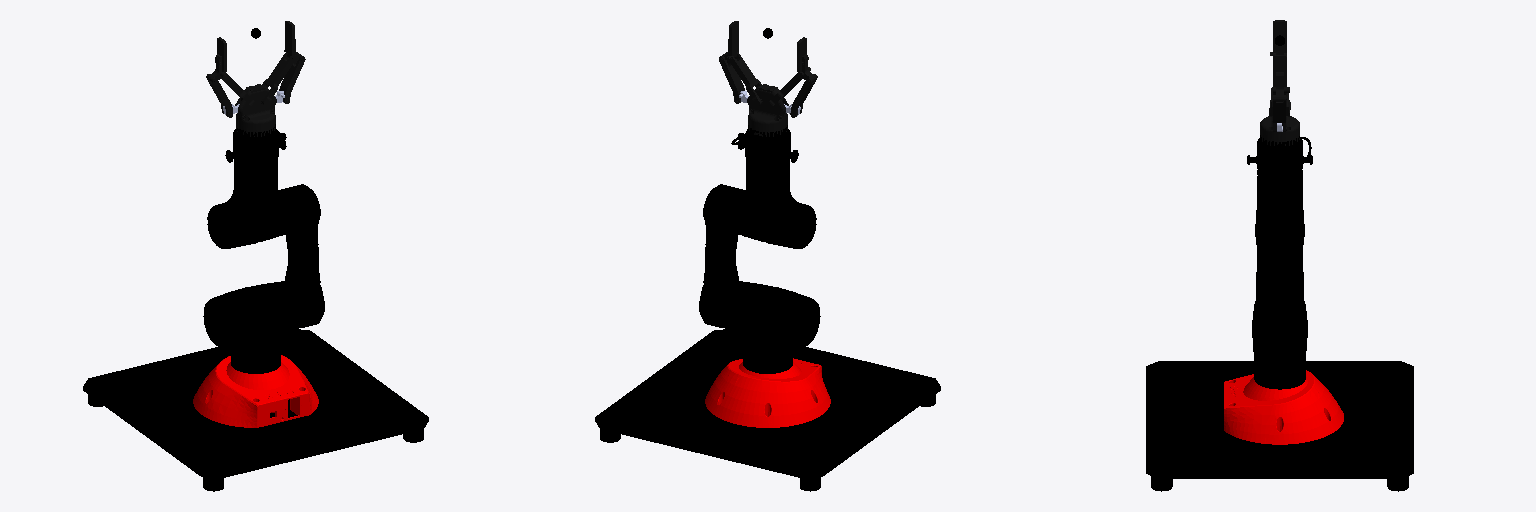
--- Render facts (derived) ---
3 views of the same robot in one strip: view 1: azimuth 30°, elevation 25°; view 2: azimuth 150°, elevation 25°; view 3: azimuth 270°, elevation 25° (orthographic).
Robot: mara_3-DOF — 22 links, 21 joints (9 revolute, 12 fixed); root link world; default pose: all joints at 0.
Visible links, largest first — view 1: base_link, base_robot, motor1_link, motor3_link, motor2_link, motor1_cover, motor3_cover, robotiq_arg2f_base_link, robotiq_adapter_link, motor6_link, left_inner_knuckle; view 2: base_link, base_robot, motor1_link, motor3_link, motor2_link, motor1_cover, motor3_cover, robotiq_arg2f_base_link, robotiq_adapter_link, motor6_link, left_inner_knuckle; view 3: base_link, motor2_link, base_robot, motor3_link, motor6_link, robotiq_adapter_link, motor1_link, robotiq_arg2f_base_link, left_inner_finger.
Boxes of the visible links, box(x1,y1,x2,y2) form: base_link: box(83, 329, 428, 491); base_robot: box(193, 355, 318, 427); motor1_link: box(231, 280, 303, 373); motor3_link: box(225, 162, 298, 241); motor2_link: box(285, 184, 324, 327); motor1_cover: box(203, 279, 308, 347); motor3_cover: box(207, 159, 303, 248); robotiq_arg2f_base_link: box(235, 84, 276, 136); robotiq_adapter_link: box(225, 129, 286, 168); motor6_link: box(233, 124, 286, 168); left_inner_knuckle: box(262, 50, 296, 105); base_link: box(595, 329, 940, 491); base_robot: box(705, 358, 830, 427); motor1_link: box(720, 280, 792, 373); motor3_link: box(725, 162, 798, 241); motor2_link: box(699, 184, 738, 327); motor1_cover: box(715, 279, 820, 347); motor3_cover: box(720, 159, 816, 248); robotiq_arg2f_base_link: box(747, 84, 788, 136); robotiq_adapter_link: box(738, 129, 798, 168); motor6_link: box(731, 125, 790, 168); left_inner_knuckle: box(725, 52, 761, 105); base_link: box(1146, 361, 1413, 491); motor2_link: box(1254, 228, 1305, 377); base_robot: box(1224, 370, 1343, 444); motor3_link: box(1255, 173, 1304, 244); motor6_link: box(1247, 135, 1312, 178); robotiq_adapter_link: box(1257, 138, 1302, 179); motor1_link: box(1252, 312, 1307, 389); robotiq_arg2f_base_link: box(1260, 116, 1299, 145); left_inner_finger: box(1273, 55, 1286, 96).
Size in the robot's own frame: 0.5 by 0.5 by 0.8242 metres.
18 mesh visuals loaded from 19 distinct referenced files (18 Collada DAE); not drawn: 5 (reference not matched to a file when rendering).

robot.urdf — mara_3-DOF:
<?xml version="1.0" ?>
<!-- =================================================================================== -->
<!-- |    This document was autogenerated by xacro from [local-path]/ros2_mara_ws/src/mara/mara_description/urdf/mara_robot_gripper_140.urdf.xacro | -->
<!-- |    EDITING THIS FILE BY HAND IS NOT RECOMMENDED                                 | -->
<!-- =================================================================================== -->
<robot name="mara_3-DOF" xmlns:xacro="http://ros.org/wiki/xacro">
  <!--
  Author: Alejandro  Hernandez
-->
  <!-- <xacro:include filename="$(find mara_description)/urdf/camera_top.urdf.xacro" /> -->
  <link name="base_link">
    <inertial>
      <origin rpy="0 0 0" xyz="8.625E-08 -4.6583E-06 0.03145"/>
      <mass value="7.033"/>
      <inertia ixx="0.1478344" ixy="-0.00001" ixz="0.0" iyy="0.14782335" iyz="0.0" izz="0.29471799"/>
    </inertial>
    <visual>
      <origin rpy="0 0 0" xyz="0 0 0"/>
      <geometry>
        <mesh filename="package://mara_description/meshes/Base_plancha.dae" scale="0.001 0.001 0.001"/>
      </geometry>
      <material name="Gazebo/Grey">
        <color rgba="0. 0. 0. 1"/>
      </material>
    </visual>
    <collision>
      <origin rpy="0 0 0" xyz="0 0 0"/>
      <geometry>
        <mesh filename="package://mara_description/meshes/Base_plancha.dae" scale="0.001 0.001 0.001"/>
      </geometry>
    </collision>
  </link>
  <gazebo reference="base_link">
    <material>Gazebo/Grey</material>
    <selfCollide>True</selfCollide>
  </gazebo>
  <link name="base_robot">
    <inertial>
      <origin rpy="0 0 0" xyz="8.625E-08 -4.6583E-06 0.03145"/>
      <mass value="7.033"/>
      <inertia ixx="0.1478344" ixy="0.00001" ixz="0.0" iyy="0.14782335" iyz="0.0" izz="0.29471799"/>
    </inertial>
    <visual>
      <origin rpy="0 0 0" xyz="0 0 0"/>
      <geometry>
        <mesh filename="package://mara_description/meshes/Base.dae" scale="0.001 0.001 0.001"/>
      </geometry>
      <material name="Gazebo/Black">
        <color rgba="1. 0. 0. 1.0"/>
      </material>
    </visual>
    <collision>
      <origin rpy="0 0 0" xyz="0 0 0"/>
      <geometry>
        <mesh filename="package://mara_description/meshes/Base.dae" scale="0.001 0.001 0.001"/>
      </geometry>
    </collision>
  </link>
  <gazebo reference="base_robot">
    <material>Gazebo/Black</material>
    <selfCollide>True</selfCollide>
  </gazebo>
  <link name="motor1_link">
    <inertial>
      <origin rpy="0 0 0" xyz="0.02066 0 0.12051"/>
      <mass value="5.6"/>
      <inertia ixx="0.0200769278" ixy="-7.72273E-006" ixz="0.0050158708" iyy="0.0257088151" iyz="5.49229E-006" izz="0.0120821377"/>
    </inertial>
    <visual>
      <origin rpy="0 0 0" xyz="0 0 0"/>
      <geometry>
        <mesh filename="package://mara_description/meshes/MARA_T49.dae" scale="0.001 0.001 0.001"/>
      </geometry>
      <material name="Gazebo/White">
        <color rgba="0. 0. 0. 1"/>
      </material>
    </visual>
    <collision>
      <origin rpy="0 0 0" xyz="0 0 0"/>
      <geometry>
        <mesh filename="package://mara_description/meshes/MARA_T49.dae" scale="0.001 0.001 0.001"/>
      </geometry>
    </collision>
  </link>
  <gazebo reference="motor1_link">
    <material>Gazebo/White</material>
    <selfCollide>True</selfCollide>
  </gazebo>
  <link name="motor1_cover">
    <inertial>
      <origin rpy="0 0 0" xyz="8.625E-08 -4.6583E-06 0.03145"/>
      <mass value="0.0"/>
      <inertia ixx="0.0" ixy="0.0" ixz="0.0" iyy="0.0" iyz="0.0" izz="0.0"/>
    </inertial>
    <visual>
      <origin rpy="0 0 0" xyz="0 0 0"/>
      <geometry>
        <mesh filename="package://mara_description/meshes/MARA_T49_Black.dae" scale="0.001 0.001 0.001"/>
      </geometry>
      <material name="Gazebo/Black">
        <color rgba="0. 0. 0. 1"/>
      </material>
    </visual>
    <collision>
      <origin rpy="0 0 0" xyz="0 0 0"/>
      <geometry>
        <mesh filename="package://mara_description/meshes/MARA_T49_Black.dae" scale="0.001 0.001 0.001"/>
      </geometry>
    </collision>
  </link>
  <gazebo reference="motor1_cover">
    <material>Gazebo/Black</material>
    <selfCollide>True</selfCollide>
  </gazebo>
  <link name="motor2_link">
    <inertial>
      <origin rpy="0 0 0" xyz="-0.01665 0.0 0.09639"/>
      <mass value="1.236"/>
      <inertia ixx="0.0079614839" ixy="0.000000037" ixz="-0.0003203013" iyy="0.007135338" iyz="-0.000001062" izz="0.001111114"/>
    </inertial>
    <visual>
      <origin rpy="0 0 0" xyz="0 0 0"/>
      <geometry>
        <mesh filename="package://mara_description/meshes/MARA_Link1.dae" scale="0.001 0.001 0.001"/>
      </geometry>
      <material name="Gazebo/Black">
        <color rgba="0. 0. 0. 1"/>
      </material>
    </visual>
    <collision>
      <origin rpy="0 0 0" xyz="0 0 0"/>
      <geometry>
        <mesh filename="package://mara_description/meshes/MARA_Link1.dae" scale="0.001 0.001 0.001"/>
      </geometry>
    </collision>
  </link>
  <gazebo reference="motor2_link">
    <material>Gazebo/Black</material>
    <selfCollide>True</selfCollide>
  </gazebo>
  <link name="motor3_link">
    <inertial>
      <origin rpy="0 0 0" xyz="-0.08963 0.0 0.0403"/>
      <mass value="3.95"/>
      <inertia ixx="0.0115136615" ixy="-1.231046E-005" ixz="-0.003148516" iyy="0.0149841676" iyz="-8.81378E-006" izz="0.0070387807"/>
    </inertial>
    <visual>
      <origin rpy="0 0 0" xyz="0 0 0"/>
      <geometry>
        <mesh filename="package://mara_description/meshes/MARA_T30.dae" scale="0.001 0.001 0.001"/>
      </geometry>
      <material name="Gazebo/White">
        <color rgba="0. 0. 0. 1"/>
      </material>
    </visual>
    <collision>
      <origin rpy="0 0 0" xyz="0 0 0"/>
      <geometry>
        <mesh filename="package://mara_description/meshes/MARA_T30.dae" scale="0.001 0.001 0.001"/>
      </geometry>
    </collision>
  </link>
  <gazebo reference="motor3_link">
    <material>Gazebo/White</material>
    <selfCollide>True</selfCollide>
  </gazebo>
  <link name="motor3_cover">
    <inertial>
      <origin rpy="0 0 0" xyz="8.625E-08 -4.6583E-06 0.03145"/>
      <mass value="0.0"/>
      <inertia ixx="0.0" ixy="0.0" ixz="0.0" iyy="0.0" iyz="0.0" izz="0.0"/>
    </inertial>
    <visual>
      <origin rpy="0 0 0" xyz="0 0 0"/>
      <geometry>
        <mesh filename="package://mara_description/meshes/MARA_T30_Black.dae" scale="0.001 0.001 0.001"/>
      </geometry>
      <material name="Gazebo/Black">
        <color rgba="0. 0. 0. 1"/>
      </material>
    </visual>
    <collision>
      <origin rpy="0 0 0" xyz="0 0 0"/>
      <geometry>
        <mesh filename="package://mara_description/meshes/MARA_T30_Black.dae" scale="0.001 0.001 0.001"/>
      </geometry>
    </collision>
  </link>
  <gazebo reference="motor3_cover">
    <material>Gazebo/Black</material>
    <selfCollide>True</selfCollide>
  </gazebo>

<!--
  <link name="motor4_link">
    <inertial>
      <origin rpy="0 0 0" xyz="0.06357 0.0 0.05698"/>
      <mass value="1.258"/>
      <inertia ixx="0.005919676" ixy="0.000000923" ixz="0.0022280208" iyy="0.0068807393" iyz="6.1373E-007" izz="0.00257485"/>
    </inertial>
    <visual>
      <origin rpy="0 0 0" xyz="0 0 0"/>
      <geometry>
        <mesh filename="package://mara_description/meshes/MARA_Link2.dae" scale="0.001 0.001 0.001"/>
      </geometry>
      <material name="Gazebo/Black">
        <color rgba="0. 0. 0. 1"/>
      </material>
    </visual>
    <collision>
      <origin rpy="0 0 0" xyz="0 0 0"/>
      <geometry>
        <mesh filename="package://mara_description/meshes/MARA_Link2.dae" scale="0.001 0.001 0.001"/>
      </geometry>
    </collision>
  </link>
  <gazebo reference="motor4_link">
    <material>Gazebo/Black</material>
    <selfCollide>True</selfCollide>
  </gazebo>

  <link name="motor5_link">
    <inertial>
      <origin rpy="0 0 0" xyz="-0.09105 0.0 0.03676"/>
      <mass value="2.85"/>
      <inertia ixx="0.0072829492" ixy="3.77994E-006" ixz="-0.0015682105" iyy="0.0098263499" iyz="2.52745E-006" izz="0.0045615321"/>
    </inertial>
    <visual>
      <origin rpy="0 0 0" xyz="0 0 0"/>
      <geometry>
        <mesh filename="package://mara_description/meshes/MARA_T5.4.dae" scale="0.001 0.001 0.001"/>
      </geometry>
      <material name="Gazebo/White">
        <color rgba="0. 0. 0. 1"/>
      </material>
    </visual>
    <collision>
      <origin rpy="0 0 0" xyz="0 0 0"/>
      <geometry>
        <mesh filename="package://mara_description/meshes/MARA_T5.4.dae" scale="0.001 0.001 0.001"/>
      </geometry>
    </collision>
  </link>
  <gazebo reference="motor5_link">
    <material>Gazebo/White</material>
    <selfCollide>True</selfCollide>
  </gazebo>
  <link name="motor5_cover">
    <inertial>
      <origin rpy="0 0 0" xyz="8.625E-08 -4.6583E-06 0.03145"/>
      <mass value="0.0"/>
      <inertia ixx="0.0" ixy="0.0" ixz="0.0" iyy="0.0" iyz="0.0" izz="0.0"/>
    </inertial>
    <visual>
      <origin rpy="0 0 0" xyz="0 0 0"/>
      <geometry>
        <mesh filename="package://mara_description/meshes/MARA_T5.4_black.dae" scale="0.001 0.001 0.001"/>
      </geometry>
      <material name="Gazebo/Black">
        <color rgba="0. 0. 0. 1"/>
      </material>
    </visual>
    <collision>
      <origin rpy="0 0 0" xyz="0 0 0"/>
      <geometry>
        <mesh filename="package://mara_description/meshes/MARA_T5.4_black.dae" scale="0.001 0.001 0.001"/>
      </geometry>
    </collision>
  </link>
  <gazebo reference="motor5_cover">
    <material>Gazebo/Black</material>
    <selfCollide>True</selfCollide>
  </gazebo>
-->

  <link name="motor6_link">
    <inertial>
      <origin rpy="0 0 0" xyz="0.0 0.0 -0.0173"/>
      <mass value="0.14"/>
      <inertia ixx="9.22e-05" ixy="6.35e-7" ixz="2.00e-11" iyy="9.73e-5" iyz="2.36e-9" izz="1.77e-4"/>
    </inertial>
    <visual>
      <origin rpy="0 0 0" xyz="0 0 0"/>
      <geometry>
        <mesh filename="package://mara_description/meshes/MARA_GripperAdapter.dae" scale="0.001 0.001 0.001"/>
      </geometry>
      <material name="Gazebo/Black">
        <color rgba="0. 0. 0. 1"/>
      </material>
    </visual>
    <collision>
      <origin rpy="0 0 0" xyz="0 0 0"/>
      <geometry>
        <mesh filename="package://mara_description/meshes/MARA_GripperAdapter.dae" scale="0.001 0.001 0.001"/>
      </geometry>
    </collision>
  </link>
  <gazebo reference="motor6_link">
    <material>Gazebo/Black</material>
    <selfCollide>True</selfCollide>
  </gazebo>

  <link name="ee_link">
    <visual>
      <geometry>
        <sphere radius="0.01"/>
      </geometry>
      <material name="Gazebo/Grey">
        <color rgba="0. 0. 0. 1"/>
      </material>
    </visual>
  </link>
  <gazebo reference="ee_link">
    <material>Gazebo/Blue</material>
    <selfCollide>False</selfCollide>
  </gazebo>
  <joint name="joint_bases" type="fixed">
    <origin rpy="0 0 0" xyz="0 0 0.04"/>
    <parent link="base_link"/>
    <child link="base_robot"/>
  </joint>
  <joint name="motor1" type="revolute">
    <origin rpy="0 0 0" xyz="0 0 0.02125"/>
    <parent link="base_robot"/>
    <child link="motor1_link"/>
    <axis xyz="0 0 1"/>
    <limit effort="104.0" lower="-3.1416" upper="3.1416" velocity="1.57"/>
    <dynamics damping="0" friction="0"/>
  </joint>
  <joint name="motor1_cover_joint" type="fixed">
    <origin rpy="0 0 0" xyz="0 0 0.0"/>
    <parent link="motor1_link"/>
    <child link="motor1_cover"/>
  </joint>
  <joint name="motor2" type="revolute">
    <origin rpy="0 0 0" xyz="0.118 0 0.1637"/>
    <parent link="motor1_link"/>
    <child link="motor2_link"/>
    <axis xyz="1 0 0"/>
    <limit effort="104.0" lower="-2.35" upper="2.35" velocity="1.57"/>
    <dynamics damping="0" friction="0"/>
  </joint>
  <joint name="motor3" type="revolute">
    <origin rpy="0 0 0" xyz="-0.009 0 0.2"/>
    <parent link="motor2_link"/>
    <child link="motor3_link"/>
    <axis xyz="-1 0 0"/>
    <limit effort="69" lower="-2.61" upper="2.61" velocity="1.57"/>
    <dynamics damping="0" friction="0"/>
  </joint>
  <joint name="motor3_cover_joint" type="fixed">
    <origin rpy="0 0 0" xyz="0 0 0.0"/>
    <parent link="motor3_link"/>
    <child link="motor3_cover"/>
  </joint>

<!--
  <joint name="motor4" type="revolute">
    <origin rpy="0 0 0" xyz="-0.109255 0 0.149255"/>
    <parent link="motor3_link"/>
    <child link="motor4_link"/>
    <axis xyz="0 0 1"/>
    <limit effort="69" lower="-3.14" upper="3.14" velocity="1.57"/>
    <dynamics damping="0" friction="0"/>
  </joint>
-->

  <joint name="motor6" type="fixed">
    <origin rpy="0 0 1.57" xyz="-0.109255 0 0.149255"/>
    <parent link="motor3_link"/>
    <child link="motor6_link"/>
    <axis xyz="0 0 1"/>
    <limit effort="69" lower="-3.14" upper="3.14" velocity="1.57"/>
    <dynamics damping="0" friction="0"/>
  </joint>

<!--
  <joint name="motor5" type="revolute">
    <origin rpy="0 0 0" xyz="0.1054570 0 0.16074"/>
    <parent link="motor4_link"/>
    <child link="motor5_link"/>
    <axis xyz="-1 0 0"/>
    <limit effort="34" lower="-2.56" upper="2.56" velocity="1.57"/>
    <dynamics damping="0" friction="0"/>
  </joint>
  <joint name="motor5_cover_joint" type="fixed">
    <origin rpy="0 0 0" xyz="0 0 0.0"/>
    <parent link="motor5_link"/>
    <child link="motor5_cover"/>
  </joint>

  <joint name="motor6" type="revolute">
    <origin rpy="0 0 0" xyz="-0.10625569 0 0.14675569"/>
    <parent link="motor3_link"/>
    <child link="motor6_link"/>
    <axis xyz="0 0 1"/>
    <limit effort="34" lower="-3.14" upper="3.14" velocity="1.57"/>
    <dynamics damping="0" friction="0"/>
  </joint>
-->
  <joint name="ee_link" type="fixed">
    <origin rpy="0 -1.57 0" xyz="0 0.0 0.24"/>
    <!-- 0.24 -->
    <parent link="motor6_link"/>
    <child link="ee_link"/>
  </joint>
  <link name="tool0"/>
  <joint name="motor6_link-tool0_fixed_joint" type="fixed">
    <origin rpy="0 -1.57 0" xyz="0 0.0 0.24"/>
    <parent link="motor6_link"/>
    <child link="tool0"/>
  </joint>
  <transmission name="shoulder_pan_trans">
    <type>transmission_interface/SimpleTransmission</type>
    <joint name="motor1">
      <hardwareInterface>hardware_interface/PositionJointInterface</hardwareInterface>
    </joint>
    <actuator name="shoulder_pan_motor">
      <mechanicalReduction>1</mechanicalReduction>
    </actuator>
  </transmission>
  <transmission name="shoulder_lift_trans">
    <type>transmission_interface/SimpleTransmission</type>
    <joint name="motor2">
      <hardwareInterface>hardware_interface/PositionJointInterface</hardwareInterface>
    </joint>
    <actuator name="shoulder_lift_motor">
      <mechanicalReduction>1</mechanicalReduction>
    </actuator>
  </transmission>
  <transmission name="elbow_trans">
    <type>transmission_interface/SimpleTransmission</type>
    <joint name="motor3">
      <hardwareInterface>hardware_interface/PositionJointInterface</hardwareInterface>
    </joint>
    <actuator name="elbow_motor">
      <mechanicalReduction>1</mechanicalReduction>
    </actuator>
  </transmission>
<!--
  <transmission name="wrist_1_trans">
    <type>transmission_interface/SimpleTransmission</type>
    <joint name="motor4">
      <hardwareInterface>hardware_interface/PositionJointInterface</hardwareInterface>
    </joint>
    <actuator name="wrist_1_motor">
      <mechanicalReduction>1</mechanicalReduction>
    </actuator>
  </transmission>
  <transmission name="wrist_2_trans">
    <type>transmission_interface/SimpleTransmission</type>
    <joint name="motor5">
      <hardwareInterface>hardware_interface/PositionJointInterface</hardwareInterface>
    </joint>
    <actuator name="wrist_2_motor">
      <mechanicalReduction>1</mechanicalReduction>
    </actuator>
  </transmission>
-->
<!--
  <transmission name="wrist_3_trans">
    <type>transmission_interface/SimpleTransmission</type>
    <joint name="motor6">
      <hardwareInterface>hardware_interface/PositionJointInterface</hardwareInterface>
    </joint>
    <actuator name="wrist_3_motor">
      <mechanicalReduction>1</mechanicalReduction>
    </actuator>
  </transmission>
-->
  <gazebo>
    <!--
    <plugin filename="libgazebo_ros_joint_state_publisher.so" name="mara_joint_state">
      <ros>
        <argument>~/out:=joint_states</argument>
      </ros>
      <update_rate>25</update_rate>
      <joint_name>motor1</joint_name>
      <joint_name>motor2</joint_name>
      <joint_name>motor3</joint_name>

      <joint_name>motor4</joint_name>
      <joint_name>motor5</joint_name>
      <joint_name>motor6</joint_name>

      <joint_name>joint_finger</joint_name>
    </plugin>
  -->
    <plugin filename="libmara_gazebo_joint_training_plugin_3dof.so" name="hrim_actuation_servomotor_00000000000">
      <ros/>
      <axis1>motor2</axis1>
      <axis2>motor1</axis2>
      <axis3>motor3</axis3>
    </plugin>
<!--
    <plugin filename="libmara_gazebo_joint_plugin.so" name="hrim_actuation_servomotor_000000000002">
      <ros/>
      <axis1>motor3</axis1>
      <axis2>motor4</axis2>
      <type>series17</type>
    </plugin>

    <plugin filename="libmara_gazebo_joint_plugin.so" name="hrim_actuation_servomotor_000000000003">
      <ros/>
      <axis1>motor5</axis1>
      <axis2>motor6</axis2>
      <type>series20</type>
    </plugin>
-->
<!--
    <plugin filename="libmara_gazebo_joint_plugin.so" name="hrim_actuation_servomotor_000000000002">
      <ros/>
      <axis1>motor3</axis1>
      <axis2>motor6</axis2>
      <type>series17</type>
    </plugin>
-->


  </gazebo>
  <link name="robotiq_adapter_link">
    <inertial>
      <origin rpy="0 0 0" xyz="8.625E-08 -4.6583E-06 0.03145"/>
      <mass value="0.22652"/>
      <inertia ixx="0.00020005" ixy="0" ixz="0" iyy="0.00017832" iyz="0" izz="0.00013478"/>
    </inertial>
    <visual>
      <origin rpy="0 0 1.57" xyz="0 0 0"/>
      <geometry>
        <mesh filename="package://robotiq_140_gripper_description/meshes/hros_robotiq_adapter.dae" scale="0.001 0.001 0.001"/>
      </geometry>
      <material name="Gazebo/Black">
        <color rgba="0.0 0.0 0.0 1"/>
      </material>
    </visual>
    <collision>
      <origin rpy="0 0 1.57" xyz="0 0 0"/>
      <geometry>
        <mesh filename="package://robotiq_140_gripper_description/meshes/hros_robotiq_adapter.dae" scale="0.001 0.001 0.001"/>
      </geometry>
    </collision>
  </link>
  <gazebo reference="robotiq_adapter_link">
    <material>Gazebo/Black</material>
    <selfCollide>False</selfCollide>
  </gazebo>
  <joint name="base_adapter_to_base_robotiq_joint" type="fixed">
    <origin rpy="0 0 0" xyz=" 0 0 0.03653"/>
    <parent link="robotiq_adapter_link"/>
    <child link="robotiq_arg2f_base_link"/>
  </joint>
  <link name="robotiq_arg2f_base_link">
    <inertial>
      <origin rpy="0 0 0" xyz="8.625E-08 -4.6583E-06 0.03145"/>
      <mass value="0.22652"/>
      <inertia ixx="0.00020005" ixy="0" ixz="0" iyy="0.00017832" iyz="0" izz="0.00013478"/>
    </inertial>
    <visual>
      <origin rpy="0 0 1.57" xyz="0 0 0"/>
      <geometry>
        <mesh filename="package://robotiq_140_gripper_description/meshes/GRIPPER_base_axis.dae" scale="0.001 0.001 0.001"/>
      </geometry>
      <material name="Gazebo/Black">
        <color rgba="0.1 0.1 0.1 1"/>
      </material>
    </visual>
    <collision>
      <origin rpy="0 0 1.57" xyz="0 0 0"/>
      <geometry>
        <mesh filename="package://robotiq_140_gripper_description/meshes/GRIPPER_base_axis.dae" scale="0.001 0.001 0.001"/>
      </geometry>
    </collision>
  </link>
  <gazebo reference="robotiq_arg2f_base_link">
    <material>Gazebo/Black</material>
    <selfCollide>False</selfCollide>
  </gazebo>
  <link name="left_outer_knuckle">
    <inertial>
      <origin rpy="0 0 0" xyz="0 0 0"/>
      <mass value="0.00853198276973456"/>
      <inertia ixx="2.89328108496468E-06" ixy="-1.57935047237397E-19" ixz="-1.93980378593255E-19" iyy="1.86719750325683E-06" iyz="-1.21858577871576E-06" izz="1.21905238907251E-06"/>
    </inertial>
    <visual>
      <origin rpy="0 0 0" xyz="0 0 0"/>
      <geometry>
        <mesh filename="package://robotiq_140_gripper_description/meshes/robotiq_140_left_outer_knuckle.dae"/>
      </geometry>
      <material name="">
        <color rgba="0.792156862745098 0.819607843137255 0.933333333333333 1"/>
      </material>
    </visual>
    <collision>
      <origin rpy="0 0 0" xyz="0 0 0"/>
      <geometry>
        <mesh filename="package://robotiq_140_gripper_description/meshes/robotiq_140_left_outer_knuckle.dae"/>
      </geometry>
    </collision>
  </link>
  <gazebo reference="left_outer_knuckle">
    <material>Gazebo/Grey</material>
    <selfCollide>False</selfCollide>
  </gazebo>
  <link name="right_outer_knuckle">
    <inertial>
      <origin rpy="0 0 0" xyz="0 0 0"/>
      <mass value="0.00853198276973456"/>
      <inertia ixx="2.89328108496468E-06" ixy="-1.57935047237397E-19" ixz="-1.93980378593255E-19" iyy="1.86719750325683E-06" iyz="-1.21858577871576E-06" izz="1.21905238907251E-06"/>
    </inertial>
    <visual>
      <origin rpy="0 0 0" xyz="0 0 0"/>
      <geometry>
        <mesh filename="package://robotiq_140_gripper_description/meshes/robotiq_140_right_outer_knuckle.dae"/>
      </geometry>
      <material name="">
        <color rgba="0.792156862745098 0.819607843137255 0.933333333333333 1"/>
      </material>
    </visual>
    <collision>
      <origin rpy="0 0 0" xyz="0 0 0"/>
      <geometry>
        <mesh filename="package://robotiq_140_gripper_description/meshes/robotiq_140_right_outer_knuckle.dae"/>
      </geometry>
    </collision>
  </link>
  <gazebo reference="right_outer_knuckle">
    <material>Gazebo/Grey</material>
    <selfCollide>False</selfCollide>
  </gazebo>
  <link name="left_inner_knuckle">
    <inertial>
      <origin rpy="0 0 0" xyz="0.000123011831763771 0.0507850843201817 0.00103968640075166"/>
      <mass value="0.0271177346495152"/>
      <inertia ixx="2.61910379223783E-05" ixy="-2.43616858946494E-07" ixz="-6.37789906117123E-09" iyy="2.8270243746167E-06" iyz="-5.37200748039765E-07" izz="2.83695868220296E-05"/>
    </inertial>
    <visual>
      <origin rpy="0 0 0" xyz="0 0 0"/>
      <geometry>
        <mesh filename="package://robotiq_140_gripper_description/meshes/robotiq_140_left_inner_knuckle.dae"/>
      </geometry>
      <material name="Gazebo/Black">
        <color rgba="0.1 0.1 0.1 1"/>
      </material>
    </visual>
  </link>
  <gazebo reference="left_inner_knuckle">
    <material>Gazebo/Black</material>
    <selfCollide>False</selfCollide>
  </gazebo>
  <link name="right_inner_knuckle">
    <inertial>
      <origin rpy="0 0 0" xyz="0.000123011831763771 0.0507850843201817 0.00103968640075166"/>
      <mass value="0.0271177346495152"/>
      <inertia ixx="2.61910379223783E-05" ixy="-2.43616858946494E-07" ixz="-6.37789906117123E-09" iyy="2.8270243746167E-06" iyz="-5.37200748039765E-07" izz="2.83695868220296E-05"/>
    </inertial>
    <visual>
      <origin rpy="0 0 0" xyz="0 0 0"/>
      <geometry>
        <mesh filename="package://robotiq_140_gripper_description/meshes/robotiq_140_right_inner_knuckle.dae"/>
      </geometry>
      <material name="Gazebo/Black">
        <color rgba="0.1 0.1 0.1 1"/>
      </material>
    </visual>
  </link>
  <gazebo reference="right_inner_knuckle">
    <material>Gazebo/Black</material>
    <selfCollide>False</selfCollide>
  </gazebo>
  <link name="left_inner_finger">
    <inertial>
      <origin rpy="0 0 0" xyz="0.0 0.031506174 -0.017648840"/>
      <mass value="0.0104003125914103"/>
      <inertia ixx="2.71909453810972E-06" ixy="1.35402465472579E-21" ixz="-7.1817349065269E-22" iyy="7.69100314106116E-07" iyz="6.74715432769696E-07" izz="2.30315190420171E-06"/>
    </inertial>
    <visual>
      <origin rpy="0 0 0" xyz="0 0 0"/>
      <geometry>
        <mesh filename="package://robotiq_140_gripper_description/meshes/robotiq_140_left_inner_finger.dae" scale="0.001 0.001 0.001"/>
      </geometry>
      <material name="Gazebo/Black">
        <color rgba="0.1 0.1 0.1 1"/>
      </material>
    </visual>
    <collision>
      <origin rpy="0 0 0" xyz="0 0 0"/>
      <geometry>
        <mesh filename="package://robotiq_140_gripper_description/meshes/robotiq_140_left_inner_finger.dae" scale="0.001 0.001 0.001"/>
      </geometry>
    </collision>
  </link>
  <gazebo reference="left_inner_finger">
    <material>Gazebo/Black</material>
    <selfCollide>False</selfCollide>
  </gazebo>
  <link name="right_inner_finger">
    <inertial>
      <origin rpy="0 0 0" xyz="0.0 0.031506174 -0.017648840"/>
      <mass value="0.0104003125914103"/>
      <inertia ixx="2.71909453810972E-06" ixy="1.35402465472579E-21" ixz="-7.1817349065269E-22" iyy="7.69100314106116E-07" iyz="6.74715432769696E-07" izz="2.30315190420171E-06"/>
    </inertial>
    <visual>
      <origin rpy="0 0 0" xyz="0 0 0"/>
      <geometry>
        <mesh filename="package://robotiq_140_gripper_description/meshes/robotiq_140_right_inner_finger.dae" scale="0.001 0.001 0.001"/>
      </geometry>
      <material name="Gazebo/Black">
        <color rgba="0.1 0.1 0.1 1"/>
      </material>
    </visual>
    <collision>
      <origin rpy="0 0 0" xyz="0 0 0"/>
      <geometry>
        <mesh filename="package://robotiq_140_gripper_description/meshes/robotiq_140_right_inner_finger.dae" scale="0.001 0.001 0.001"/>
      </geometry>
    </collision>
  </link>
  <gazebo reference="right_inner_finger">
    <material>Gazebo/Black</material>
    <selfCollide>False</selfCollide>
  </gazebo>
  <link name="left_outer_finger">
    <inertial>
      <origin rpy="0 0 0" xyz="0.00030115855001899 0.0373907951953854 -0.0208027427000385"/>
      <mass value="0.022614240507152"/>
      <inertia ixx="1.52518312458174E-05" ixy="9.76583423954399E-10" ixz="-5.43838577022588E-10" iyy="6.17694243867776E-06" iyz="6.78636130740228E-06" izz="1.16494917907219E-05"/>
    </inertial>
    <visual>
      <origin rpy="0 0 0" xyz="0 0 0"/>
      <geometry>
        <mesh filename="package://robotiq_140_gripper_description/meshes/robotiq_140_left_outer_finger.dae"/>
      </geometry>
      <material name="Gazebo/Black">
        <color rgba="0.1 0.1 0.1 1"/>
      </material>
    </visual>
    <collision>
      <origin rpy="0 0 0" xyz="0 0 0"/>
      <geometry>
        <mesh filename="package://robotiq_140_gripper_description/meshes/robotiq_140_left_outer_finger.dae"/>
      </geometry>
    </collision>
  </link>
  <gazebo reference="left_outer_finger">
    <material>Gazebo/Black</material>
    <selfCollide>False</selfCollide>
  </gazebo>
  <link name="right_outer_finger">
    <inertial>
      <origin rpy="0 0 0" xyz="0.00030115855001899 0.0373907951953854 -0.0208027427000385"/>
      <mass value="0.022614240507152"/>
      <inertia ixx="1.52518312458174E-05" ixy="9.76583423954399E-10" ixz="-5.43838577022588E-10" iyy="6.17694243867776E-06" iyz="6.78636130740228E-06" izz="1.16494917907219E-05"/>
    </inertial>
    <visual>
      <origin rpy="0 0 0" xyz="0 0 0"/>
      <geometry>
        <mesh filename="package://robotiq_140_gripper_description/meshes/robotiq_140_right_outer_finger.dae"/>
      </geometry>
      <material name="Gazebo/Black">
        <color rgba="0.1 0.1 0.1 1"/>
      </material>
    </visual>
    <collision>
      <origin rpy="0 0 0" xyz="0 0 0"/>
      <geometry>
        <mesh filename="package://robotiq_140_gripper_description/meshes/robotiq_140_right_outer_finger.dae"/>
      </geometry>
    </collision>
  </link>
  <gazebo reference="right_outer_finger">
    <material>Gazebo/Black</material>
    <selfCollide>False</selfCollide>
  </gazebo>
  <joint name="left_outer_knuckle_joint" type="revolute">
    <origin rpy="2.31 0 0" xyz="0 -0.030601 0.054905"/>
    <parent link="robotiq_arg2f_base_link"/>
    <child link="left_outer_knuckle"/>
    <axis xyz="-1 0 0"/>
    <limit effort="1000" lower="0" upper="0.775" velocity="2.0"/>
    <mimic joint="joint_finger" multiplier="1" offset="0"/>
  </joint>
  <joint name="joint_finger" type="revolute">
    <origin rpy="2.31 0 3.14159265359" xyz="0 0.030601 0.054905"/>
    <parent link="robotiq_arg2f_base_link"/>
    <child link="right_outer_knuckle"/>
    <axis xyz="-1 0 0"/>
    <limit effort="1000" lower="0" upper="0.775" velocity="2.0"/>
  </joint>
  <joint name="left_inner_knuckle_joint" type="revolute">
    <origin rpy="2.29 0 0" xyz="0 -0.0127 0.06142"/>
    <parent link="robotiq_arg2f_base_link"/>
    <child link="left_inner_knuckle"/>
    <axis xyz="-1 0 0"/>
    <limit effort="1000" lower="0" upper="0.78" velocity="2.0"/>
    <mimic joint="joint_finger" multiplier="1" offset="0"/>
  </joint>
  <joint name="right_inner_knuckle_joint" type="revolute">
    <origin rpy="2.29 0 -3.14159265359" xyz="0 0.0127 0.06142"/>
    <parent link="robotiq_arg2f_base_link"/>
    <child link="right_inner_knuckle"/>
    <axis xyz="-1 0 0"/>
    <limit effort="1000" lower="0" upper="0.78" velocity="2.0"/>
    <mimic joint="joint_finger" multiplier="1" offset="0"/>
  </joint>
  <joint name="left_outer_finger_joint" type="fixed">
    <origin rpy="0 0 0" xyz="0 0.01821998610742 0.0260018192872234"/>
    <parent link="left_outer_knuckle"/>
    <child link="left_outer_finger"/>
  </joint>
  <joint name="right_outer_finger_joint" type="fixed">
    <origin rpy="0 0 0" xyz="0 0.01821998610742 0.0260018192872234"/>
    <parent link="right_outer_knuckle"/>
    <child link="right_outer_finger"/>
  </joint>
  <joint name="left_inner_finger_joint" type="revolute">
    <origin rpy="-.725 0 0" xyz="0 0.0817554015893473 -0.0282203446692936"/>
    <parent link="left_outer_finger"/>
    <child link="left_inner_finger"/>
    <axis xyz="1 0 0"/>
    <limit effort="1000" lower="0" upper="0.8757" velocity="2.0"/>
    <mimic joint="joint_finger" multiplier="1" offset="0"/>
  </joint>
  <joint name="right_inner_finger_joint" type="revolute">
    <origin rpy="-.725 0 0" xyz="0 0.0817554015893473 -0.0282203446692936"/>
    <parent link="right_outer_finger"/>
    <child link="right_inner_finger"/>
    <axis xyz="1 0 0"/>
    <limit effort="1000" lower="0" upper="0.8757" velocity="2.0"/>
    <mimic joint="joint_finger" multiplier="1" offset="0"/>
  </joint>
  <gazebo>
    <joint name="left_inner_finger_knuckle_joint" type="revolute">
      <pose frame="">0 0.006 -0.018 0 0 0</pose>
      <parent>mara::left_inner_knuckle</parent>
      <child>mara::left_inner_finger</child>
      <axis>
        <xyz>1 0 0</xyz>
        <limit>
          <lower>-0.8</lower>
          <upper>0.8</upper>
          <velocity>2.0</velocity>
          <effort>1000</effort>
        </limit>
      </axis>
    </joint>
    <joint name="right_inner_finger_knuckle_joint" type="revolute">
      <pose frame="">0 0.006 -0.018 0 0 0</pose>
      <parent>mara::right_inner_knuckle</parent>
      <child>mara::right_inner_finger</child>
      <axis>
        <xyz>-1 0 0</xyz>
        <limit>
          <lower>-0.8</lower>
          <upper>0.8</upper>
          <velocity>2.0</velocity>
          <effort>1000</effort>
        </limit>
      </axis>
    </joint>
    <plugin filename="librobotiq_gripper_gazebo_plugin.so" name="hrim_actuation_gripper_000000000004">
      <joint>left_inner_knuckle_joint</joint>
      <joint>left_outer_knuckle_joint</joint>
      <joint>right_inner_knuckle_joint</joint>
      <joint>joint_finger</joint>
    </plugin>
    <plugin filename="libgazebo_ros_joint_state_publisher.so" name="mara_joint_state">
      <ros>
        <argument>~/out:=joint_states</argument>
      </ros>
      <update_rate>25</update_rate>
      <joint_name>joint_finger</joint_name>
    </plugin>
  </gazebo>
  <link name="table">
    <contact>
      <lateral_friction value="1.0"/>
    </contact>
    <inertial>
      <origin rpy="0 0 0" xyz="0 0 0"/>
      <mass value="0.00001"/>
      <inertia ixx="0.001" ixy="0" ixz="0" iyy="0.001" iyz="0" izz="0.001"/>
    </inertial>
    <visual>
      <origin rpy="0 0 0" xyz="0 0 0.6"/>
      <geometry>
        <mesh filename="package://mara_description/urdf/table.obj" scale="1.5 1 0.05"/>
      </geometry>
      <material name="brown">
        <color rgba="0.63 0.16 0.16 1"/>
      </material>
    </visual>
    <collision>
      <origin rpy="0 0 0" xyz="0 0 0.6"/>
      <geometry>
        <box size="1.5 1 0.05"/>
      </geometry>
    </collision>
    <visual>
      <origin rpy="0 0 0" xyz="-0.65 -0.4 0.29"/>
      <geometry>
        <mesh filename="package://mara_description/urdf/table.obj" scale="0.1 0.1 0.58"/>
      </geometry>
      <material name="framemat0"/>
    </visual>
    <visual>
      <origin rpy="0 0 0" xyz="-0.65 0.4 0.29"/>
      <geometry>
        <mesh filename="package://mara_description/urdf/table.obj" scale="0.1 0.1 0.58"/>
      </geometry>
      <material name="framemat0"/>
    </visual>
    <visual>
      <origin rpy="0 0 0" xyz="0.65 -0.4 0.29"/>
      <geometry>
        <mesh filename="package://mara_description/urdf/table.obj" scale="0.1 0.1 0.58"/>
      </geometry>
      <material name="framemat0"/>
    </visual>
    <visual>
      <origin rpy="0 0 0" xyz="0.65 0.4 0.29"/>
      <geometry>
        <mesh filename="package://mara_description/urdf/table.obj" scale="0.1 0.1 0.58"/>
      </geometry>
    </visual>
  </link>
  <gazebo reference="table">
    <material>Gazebo/Brown</material>
    <selfCollide>True</selfCollide>
  </gazebo>
  <link name="world"/>
  <joint name="end_effector_adapter_to_robotiq" type="fixed">
    <origin rpy="0 0 0" xyz=" 0 0 0.0"/>
    <parent link="motor6_link"/>
    <child link="robotiq_adapter_link"/>
  </joint>
  <joint name="world_to_table_joint" type="fixed">
    <origin rpy="0 0 0" xyz="0 0 0.02"/>
    <parent link="world"/>
    <child link="table"/>
  </joint>
  <joint name="table_to_base_joint" type="fixed">
    <origin rpy="0 0 0" xyz="0 0 0.62"/>
    <parent link="table"/>
    <child link="base_link"/>
  </joint>
</robot>
